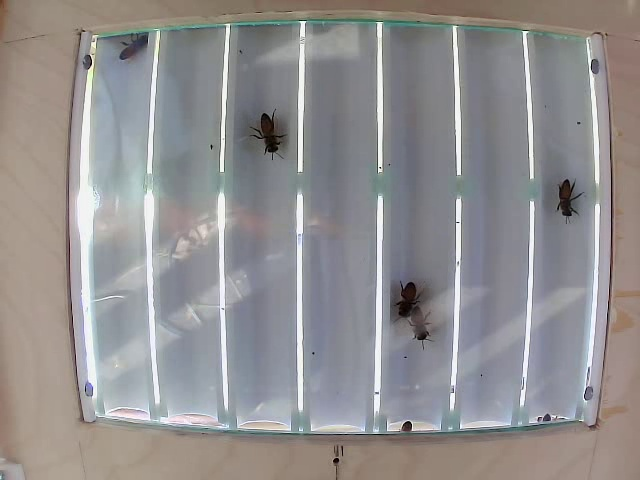bee: (251, 108, 292, 161), (110, 30, 160, 59), (550, 175, 578, 226), (407, 306, 434, 348), (392, 280, 415, 320)
